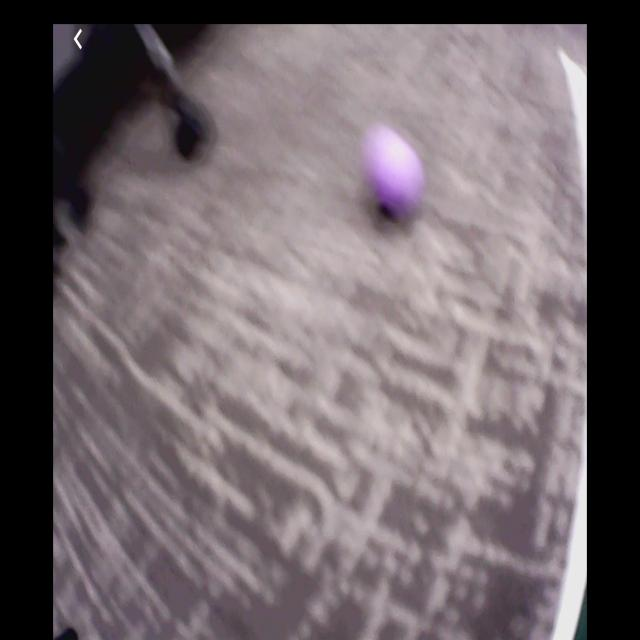ball: (374, 144, 428, 220)
